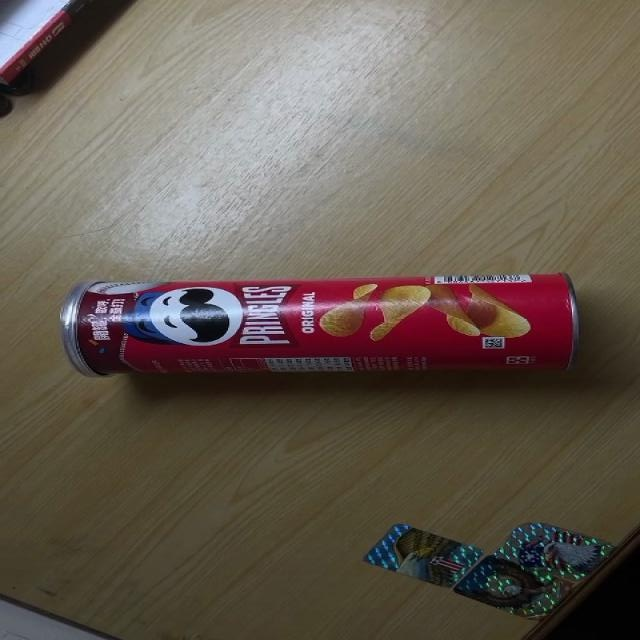Pringles: (58, 270, 573, 379)
